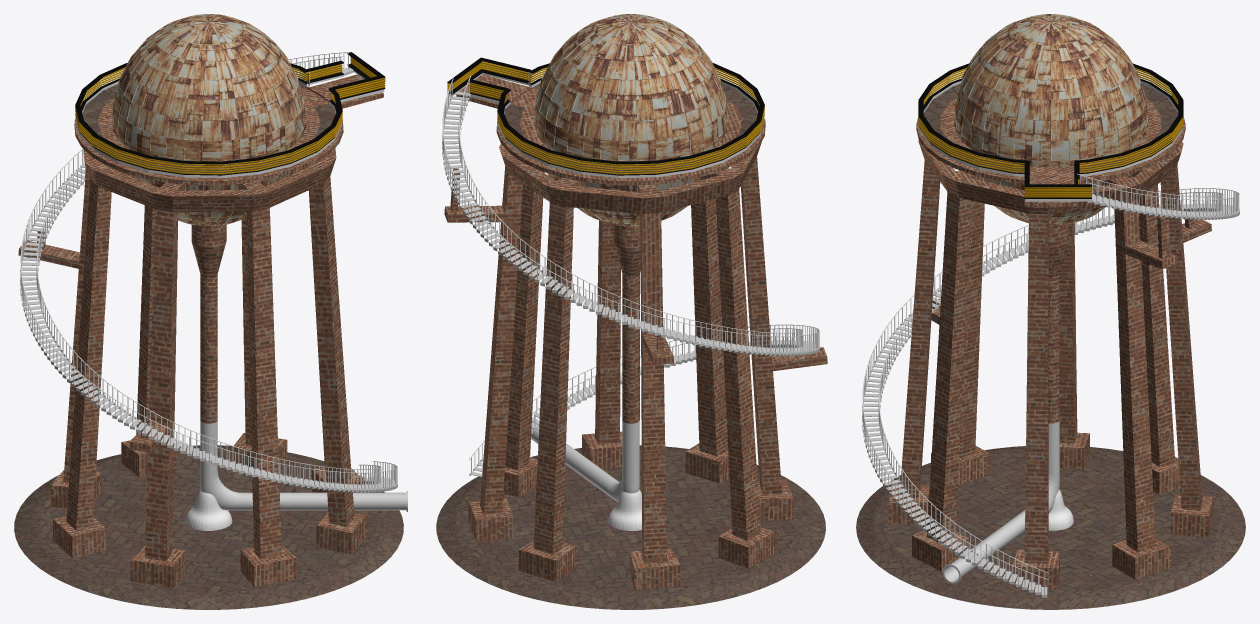
Rendered from water_tank_tower_with_stairs.glb.
3 renders of one model, left to right at view 1: azimuth 30°, elevation 25°; view 2: azimuth 150°, elevation 25°; view 3: azimuth 270°, elevation 25°, orthographic.
Visible parts, largest first — view 1: Object_3, Object_14, Object_7, Object_8, Object_9, Object_6, Object_18, Object_19, Object_4, Object_17, Object_10, Object_20 (+4 smaller); view 2: Object_3, Object_14, Object_7, Object_8, Object_9, Object_18, Object_19, Object_4, Object_6, Object_17, Object_10, Object_20 (+4 smaller); view 3: Object_3, Object_14, Object_7, Object_8, Object_18, Object_9, Object_19, Object_4, Object_6, Object_10, Object_15, Object_16 (+3 smaller).
Part boxes in pixels (x1,y1,x2,y2): Object_3: [18, 74, 383, 587]; Object_14: [14, 83, 403, 609]; Object_7: [112, 14, 305, 226]; Object_8: [20, 67, 397, 492]; Object_9: [75, 67, 342, 174]; Object_6: [200, 453, 407, 511]; Object_18: [20, 52, 397, 488]; Object_19: [36, 57, 381, 484]; Object_4: [75, 63, 342, 175]; Object_17: [185, 490, 232, 530]; Object_10: [76, 71, 341, 178]; Object_20: [305, 56, 385, 98]; Object_3: [444, 74, 827, 589]; Object_14: [436, 83, 825, 609]; Object_7: [534, 14, 727, 226]; Object_8: [442, 91, 819, 477]; Object_9: [497, 67, 764, 174]; Object_18: [442, 82, 819, 473]; Object_19: [458, 79, 803, 427]; Object_4: [497, 62, 764, 175]; Object_6: [531, 421, 639, 502]; Object_17: [607, 489, 641, 530]; Object_10: [498, 72, 763, 178]; Object_20: [447, 61, 531, 101]; Object_3: [888, 98, 1213, 589]; Object_14: [856, 84, 1245, 609]; Object_7: [953, 14, 1148, 226]; Object_8: [862, 194, 1239, 597]; Object_18: [862, 183, 1239, 594]; Object_9: [918, 67, 1183, 173]; Object_19: [878, 175, 1223, 584]; Object_4: [918, 63, 1183, 174]; Object_6: [942, 453, 1059, 583]; Object_10: [919, 81, 1182, 176]; Object_15: [862, 182, 1239, 580]; Object_16: [878, 174, 1223, 573].
Size of the model in its own units: 1.28 by 1.88 by 1.28.
Materials: 11 (3 with a texture image).
